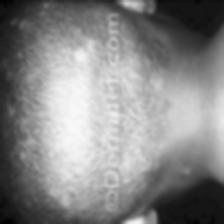Toxin: (6, 18, 38, 170), (130, 54, 162, 164), (72, 27, 98, 65), (59, 190, 74, 218), (177, 156, 192, 180), (218, 116, 224, 144)
